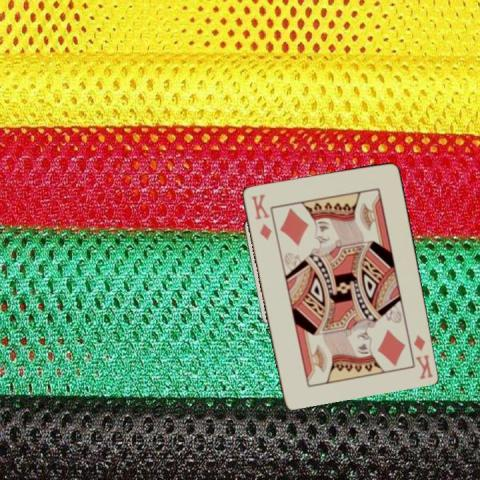Kd: (248, 191, 273, 241), (410, 331, 434, 381)
